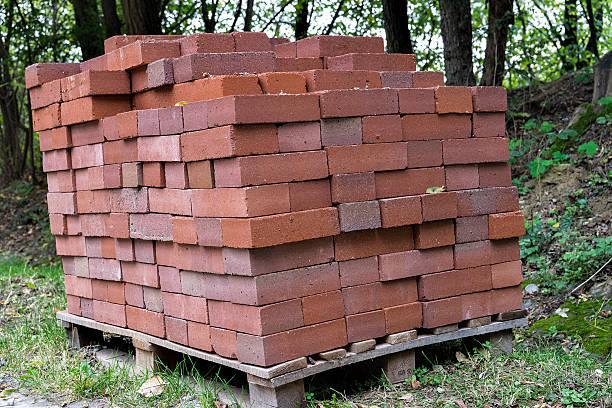Bricks: (238, 318, 346, 367), (227, 207, 341, 250), (238, 236, 338, 281), (228, 149, 330, 190), (182, 270, 270, 308), (335, 223, 416, 263), (341, 276, 418, 318), (231, 92, 320, 127), (173, 74, 270, 105), (327, 141, 407, 177), (383, 244, 454, 283), (157, 240, 224, 278), (181, 125, 243, 165), (208, 299, 271, 338), (191, 185, 257, 222), (456, 287, 521, 324), (288, 34, 387, 58), (377, 165, 445, 199), (111, 38, 183, 69), (59, 94, 122, 128), (455, 186, 522, 217), (444, 162, 513, 191), (229, 124, 283, 161), (160, 290, 211, 329), (255, 299, 307, 337), (445, 136, 512, 165), (301, 288, 349, 327), (423, 294, 476, 329), (242, 183, 293, 218), (453, 239, 507, 272), (312, 69, 388, 92), (288, 177, 335, 214), (331, 171, 379, 207), (401, 113, 462, 141), (378, 194, 426, 229), (330, 53, 416, 72), (277, 120, 325, 153), (136, 106, 185, 137), (128, 211, 174, 244), (319, 115, 365, 148), (130, 62, 177, 94), (102, 137, 149, 169), (81, 68, 132, 97), (147, 186, 193, 218), (125, 304, 167, 339), (24, 62, 80, 88), (346, 309, 388, 343), (361, 113, 407, 144), (136, 133, 182, 164), (179, 32, 240, 55), (414, 218, 456, 251), (75, 188, 124, 215), (419, 191, 460, 223), (120, 256, 161, 288), (404, 139, 446, 170), (258, 71, 312, 95), (133, 85, 181, 112), (28, 79, 67, 111), (182, 98, 217, 133), (78, 53, 131, 76), (397, 86, 439, 115), (454, 213, 492, 245), (487, 210, 527, 240), (86, 277, 127, 306), (90, 297, 129, 327), (489, 258, 525, 290), (193, 217, 227, 250), (435, 85, 472, 115), (87, 255, 125, 283), (69, 120, 104, 150), (164, 314, 195, 347), (185, 319, 215, 353), (69, 142, 104, 171), (79, 212, 115, 240), (472, 85, 509, 112), (73, 165, 110, 192), (111, 186, 148, 213), (31, 102, 63, 133), (123, 280, 154, 312), (472, 112, 508, 139), (209, 326, 238, 358), (63, 273, 96, 301), (232, 31, 275, 52), (185, 159, 214, 189), (37, 126, 69, 153), (46, 192, 78, 218), (42, 147, 72, 174), (132, 236, 159, 266), (272, 56, 321, 72), (140, 160, 168, 188), (54, 234, 87, 257), (45, 169, 76, 193), (163, 162, 188, 190), (413, 71, 447, 88), (274, 40, 304, 59), (121, 161, 142, 188), (384, 329, 417, 345)
